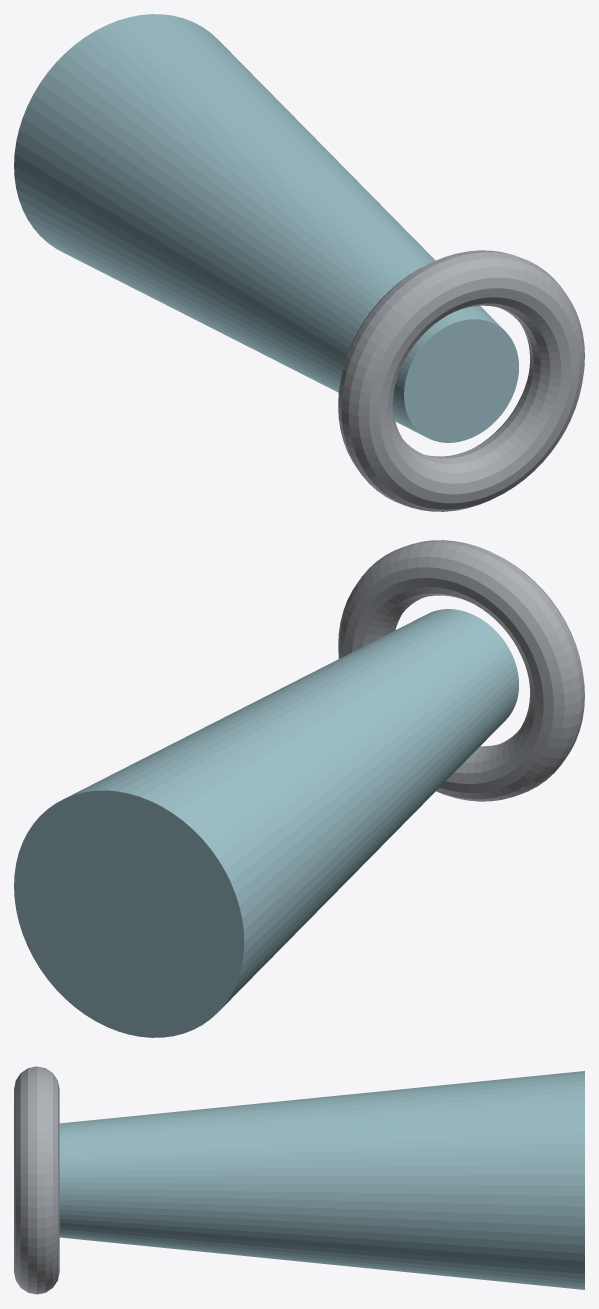
Rendered from dranmar_specimen_bag_closed.glb.
The picture shows the model from 3 angles, top to bottom: view 1: azimuth 30°, elevation 25°; view 2: azimuth 150°, elevation 25°; view 3: azimuth 270°, elevation 25°; orthographic projection. The views are drawn at different scales.
Parts seen in each view (by area): view 1: bag, ring; view 2: bag, ring; view 3: bag, ring.
Boxes of the visible parts, x1,y1,x2,y2 form: bag: [14, 14, 518, 442]; ring: [338, 250, 584, 511]; bag: [14, 609, 518, 1037]; ring: [338, 540, 584, 801]; bag: [59, 1071, 584, 1289]; ring: [14, 1066, 59, 1294].
Bounding box in the file's own units: 0.025 × 0.025 × 0.0625.
